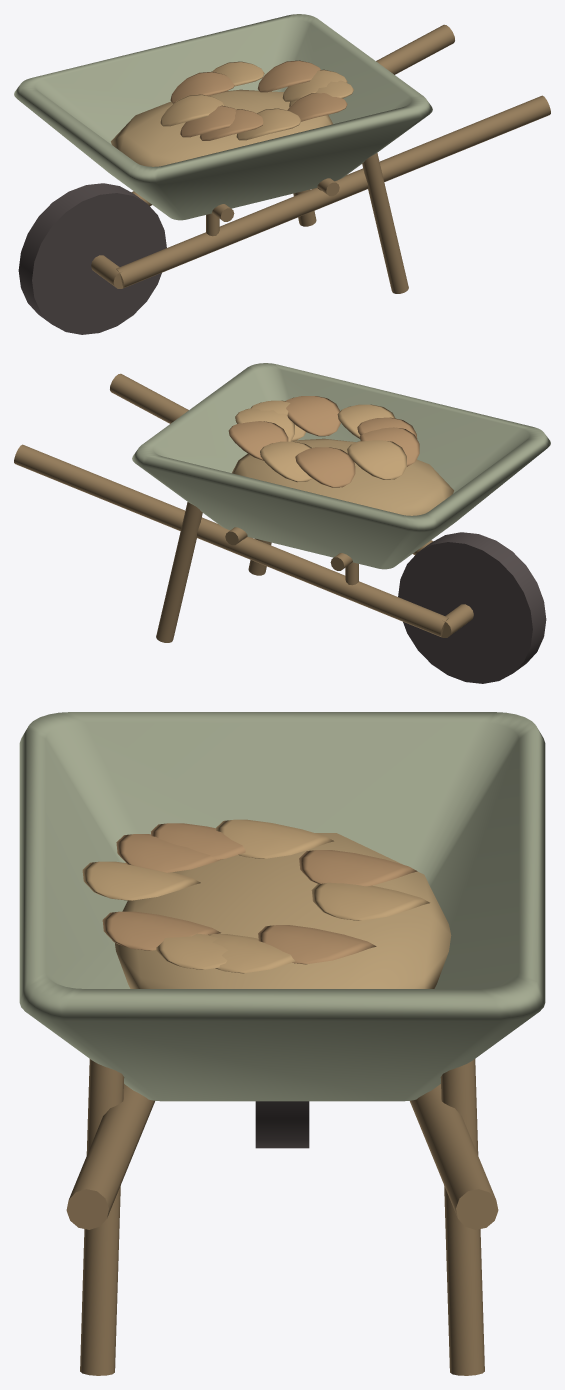
Rendered from leafbarrow.glb.
3 renders of one model, top to bottom at view 1: azimuth 30°, elevation 25°; view 2: azimuth 150°, elevation 25°; view 3: azimuth 270°, elevation 25°, orthographic. The views are drawn at different scales.
Parts seen in each view (by area): view 1: barrow-tray, barrow-wheel, barrow-frame-1, contained-leaf-fill, barrow-leg-1, barrow-frame--1, barrow-leaf-5, barrow-leaf-4, barrow-leaf-7, barrow-leaf-3, barrow-leaf-6, barrow-leaf-9 (+5 smaller); view 2: barrow-tray, barrow-wheel, barrow-frame--1, contained-leaf-fill, barrow-leg--1, barrow-leaf-7, barrow-leaf-4, barrow-leaf-3, barrow-frame-1, barrow-leaf-5, barrow-leaf-2, barrow-leaf-9 (+5 smaller); view 3: barrow-tray, contained-leaf-fill, barrow-leg--1, barrow-leg-1, barrow-frame--1, barrow-frame-1, barrow-leaf-6, barrow-leaf-2, barrow-leaf-7, barrow-leaf-5, barrow-leaf-4, barrow-leaf-3 (+5 smaller).
Part boxes in pixels (x1,y1,x2,y2): barrow-tray: (14,14,432,220); barrow-wheel: (18,183,166,334); barrow-frame-1: (116,95,550,288); contained-leaf-fill: (111,89,332,166); barrow-leg-1: (362,153,408,293); barrow-frame--1: (131,24,454,205); barrow-leaf-5: (257,60,320,92); barrow-leaf-4: (160,94,224,126); barrow-leaf-7: (170,71,234,103); barrow-leaf-3: (287,93,347,121); barrow-leaf-6: (236,108,301,140); barrow-leaf-9: (180,105,235,137); barrow-tray: (132,363,550,569); barrow-wheel: (398,532,546,683); barrow-frame--1: (14,444,448,637); contained-leaf-fill: (232,438,453,515); barrow-leg--1: (156,502,202,642); barrow-leaf-7: (295,447,355,487); barrow-leaf-4: (347,440,406,479); barrow-leaf-3: (285,396,340,436); barrow-frame-1: (110,373,433,554); barrow-leaf-5: (228,421,288,460); barrow-leaf-2: (260,441,312,482); barrow-leaf-9: (360,427,419,466); barrow-tray: (19,712,545,1101); contained-leaf-fill: (115,833,451,988); barrow-leg--1: (440,1059,484,1375); barrow-leg-1: (80,1059,124,1375); barrow-frame--1: (410,1084,498,1229); barrow-frame-1: (66,1084,154,1229); barrow-leaf-6: (82,861,200,900); barrow-leaf-2: (311,882,429,920); barrow-leaf-7: (299,850,417,886); barrow-leaf-5: (258,925,376,964); barrow-leaf-4: (215,819,333,858); barrow-leaf-3: (102,911,220,950).
Size of the model in its own units: 1.12 by 0.46 by 0.54.
